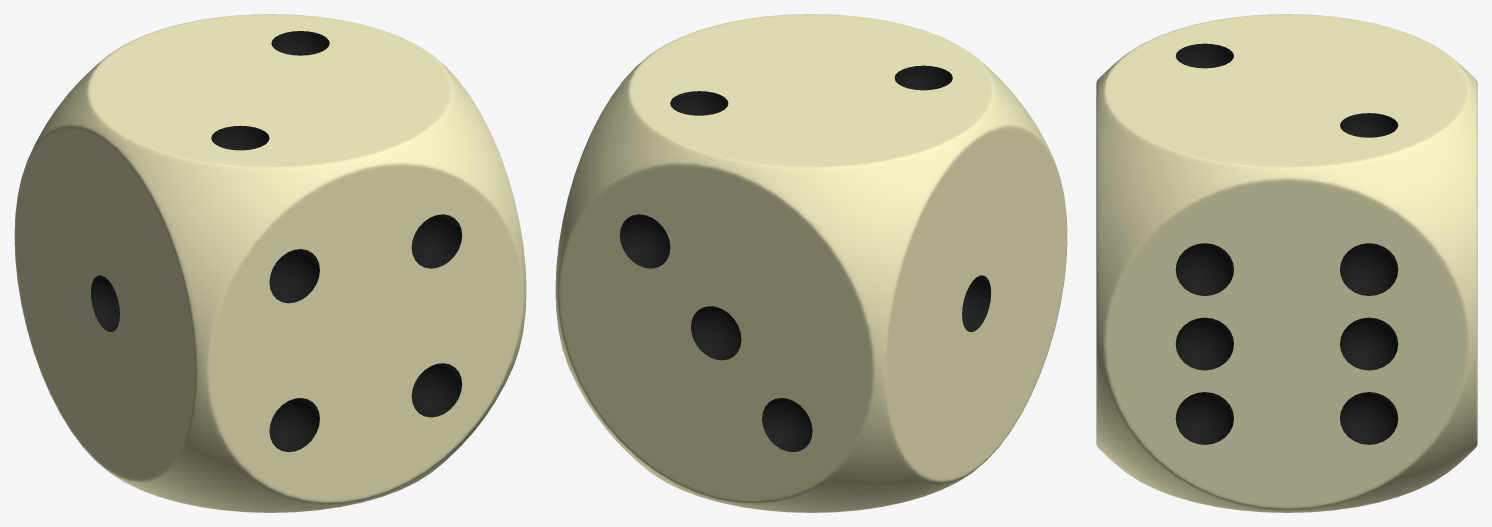
File: dice-2.glb
3 renders of one model, left to right at view 1: azimuth 30°, elevation 25°; view 2: azimuth 150°, elevation 25°; view 3: azimuth 270°, elevation 25°, orthographic.
Parts seen in each view (by area): view 1: dice; view 2: dice; view 3: dice.
Part boxes in pixels (left/top/right/bottom): dice: left=14, top=14, right=526, bottom=512; dice: left=555, top=14, right=1067, bottom=512; dice: left=1096, top=14, right=1477, bottom=512.
Bounding box in the file's own units: 1.43 × 1.43 × 1.43.
